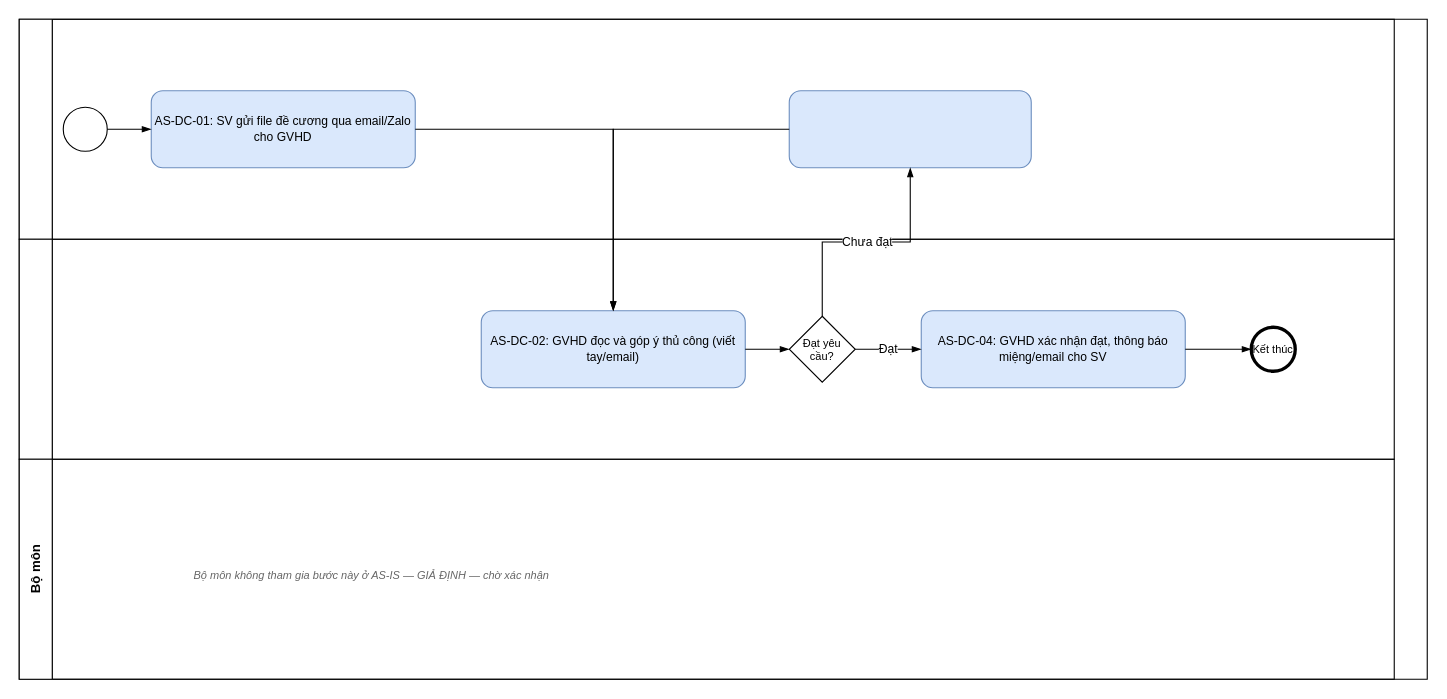
Some shapes in this 1447 by 699 pixel diagram are drawn without their labels. The box of each missing label's shape, as (x1, y1, x2, y2) in pixels:
AS-DC-03: SV chỉnh sửa và gửi lại: (788, 90, 1031, 168)
Bắt đầu: (62, 106, 107, 151)
Giảng viên: (18, 238, 1394, 459)
Sinh viên: (18, 18, 1394, 239)
